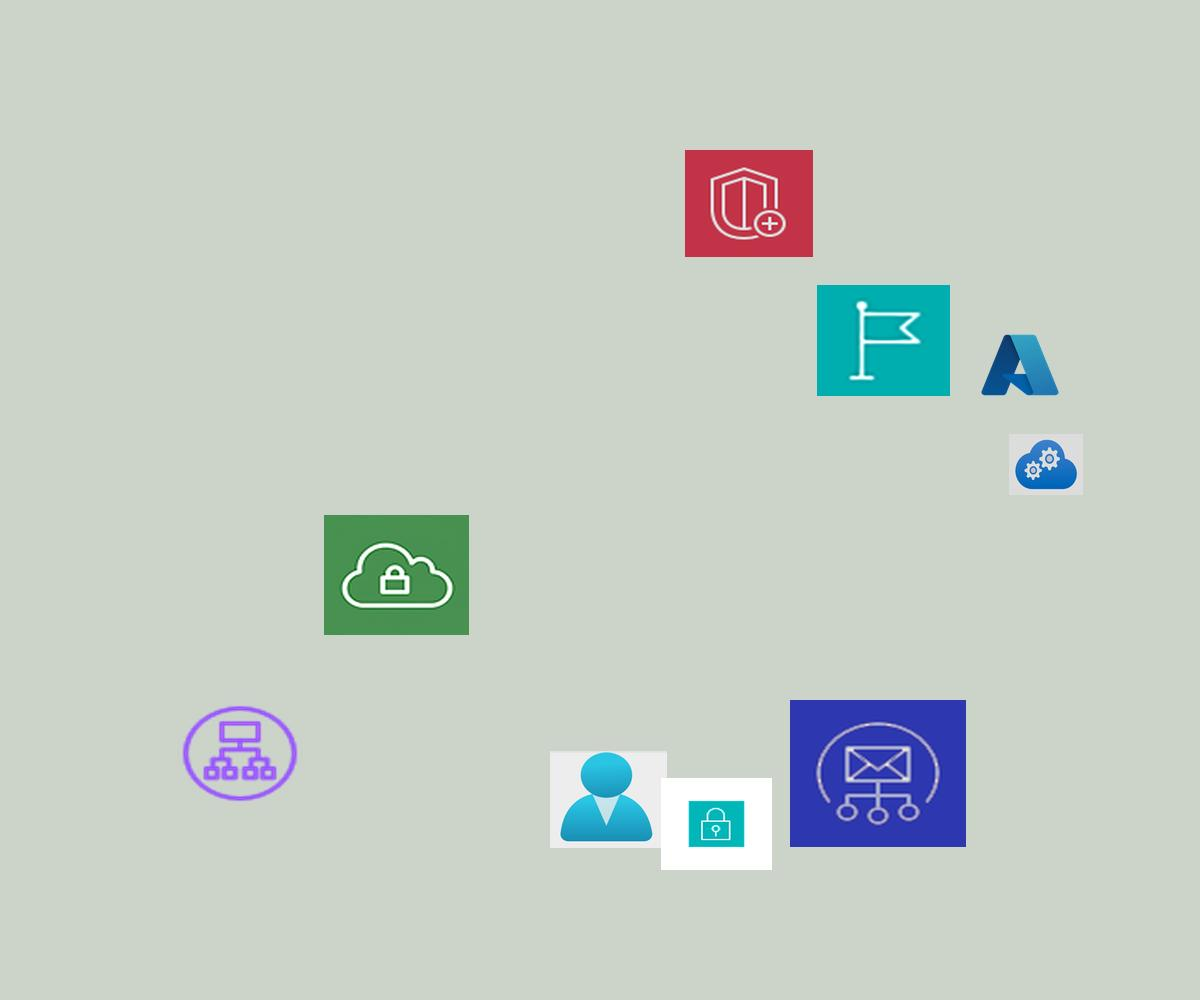AWS-Private-subnet: (661, 778, 772, 870)
AWS-Private_vpc: (324, 515, 469, 635)
AWS-Region: (817, 285, 950, 396)
AWS-Res_Elastic-Load-Balancing_Application-Load-Balancer: (178, 702, 302, 805)
AWS-Shield: (685, 150, 813, 257)
AWS-Simple-Email-Service: (790, 700, 966, 847)
Azure_cloud_services: (1009, 434, 1083, 495)
Azure_services: (978, 330, 1062, 400)
Azure_users: (550, 751, 667, 848)
